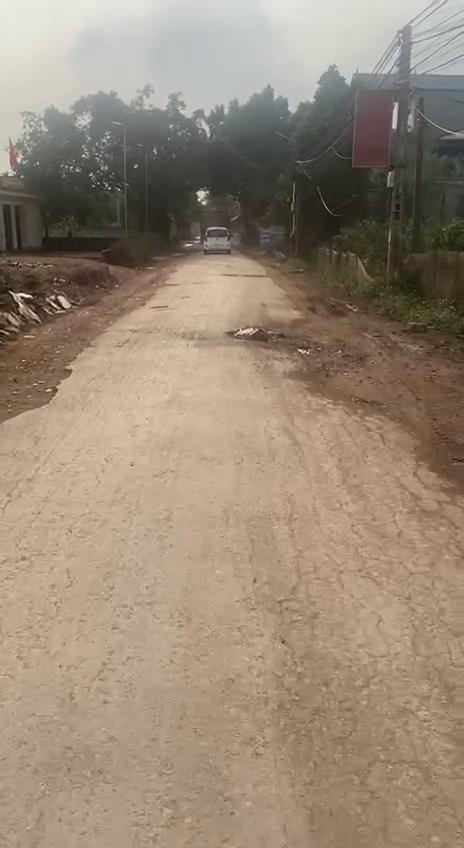pothole: (230, 320, 282, 351)
